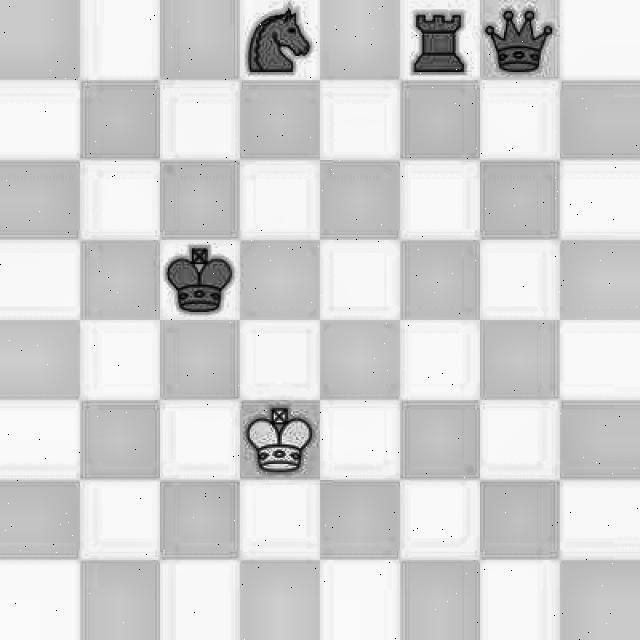Black Knight: (239, 2, 320, 84)
black king: (158, 242, 236, 322)
black queen: (477, 0, 563, 78)
black rook: (401, 1, 476, 80)
white king: (238, 402, 324, 481)
